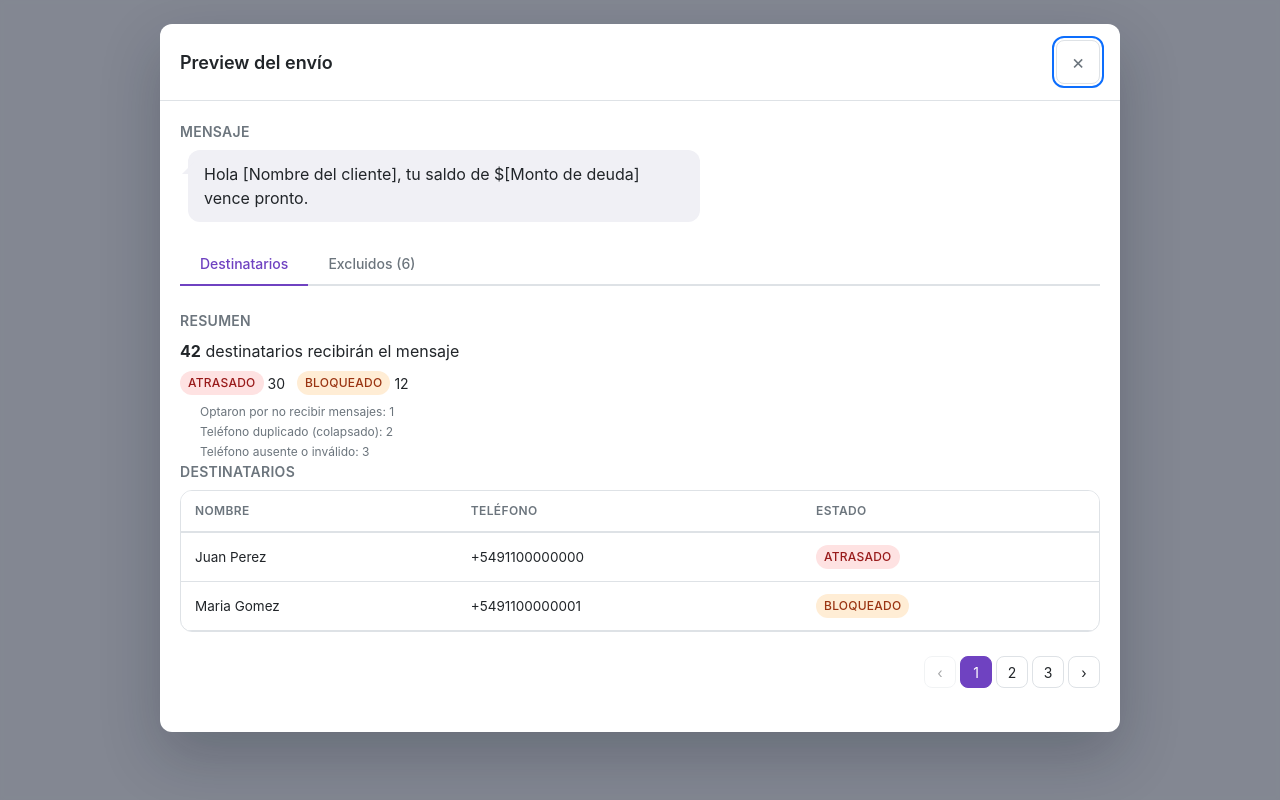
Test case: CSV-FE-7: tab "Excluidos (N)" › corregir el CSV mirando los excluidos: 2 personas con teléfono inválido
This screenshot has width=1280, height=800.
Expected: the text "Juan Perez" is shown, [181, 532, 457, 582]
Click the tab "Excluidos (6)" at [372, 264], box [308, 242, 435, 286]
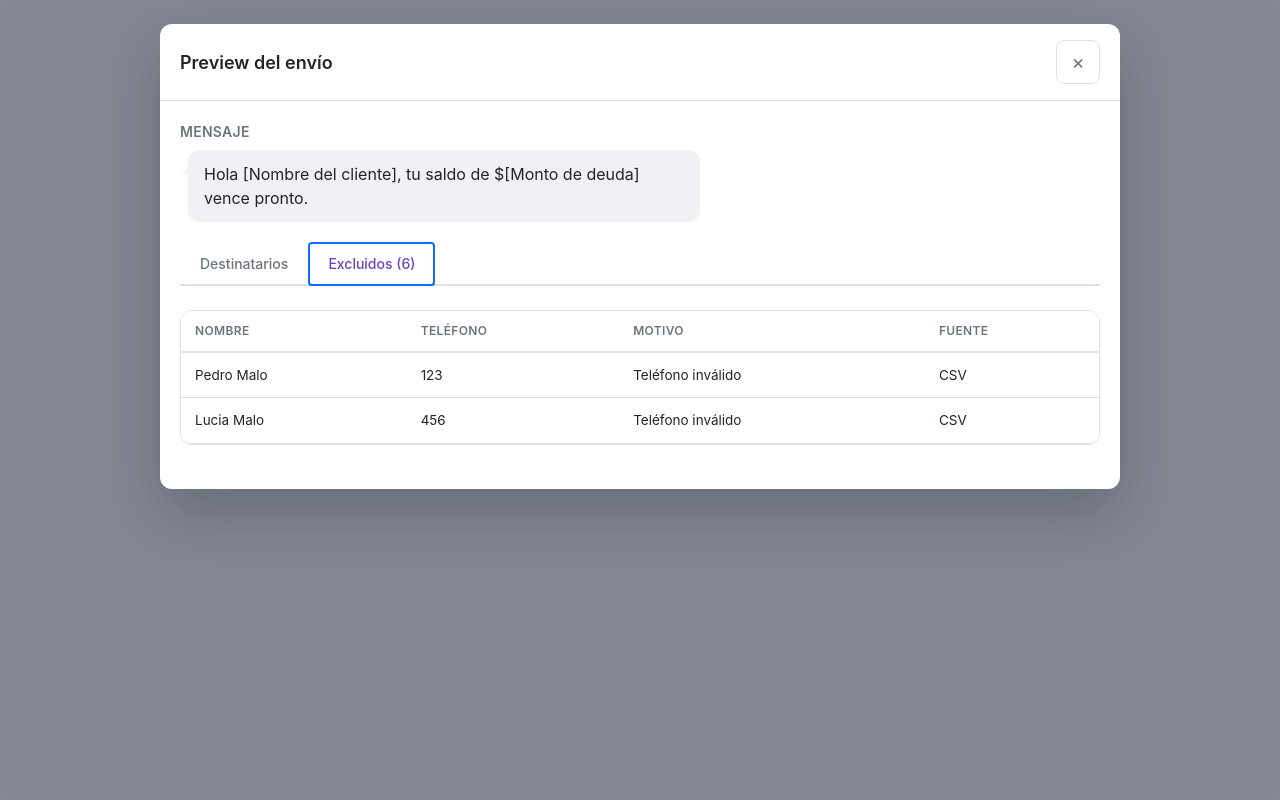
Result: the text "Pedro Malo" is shown at [181, 352, 407, 398]
Result: the text "Lucia Malo" is shown at [181, 398, 407, 443]
Result: the text "Teléfono inválido" is shown 2 times at [633, 365, 741, 385]; [633, 410, 741, 431]
